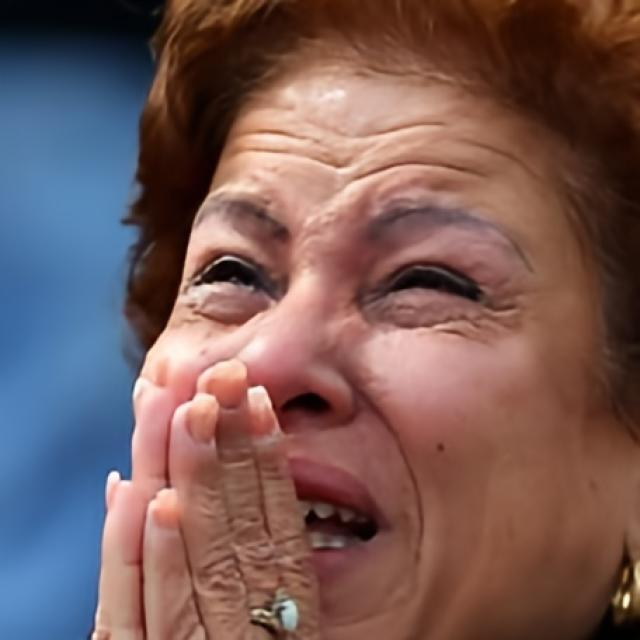fear: (134, 0, 636, 640)
